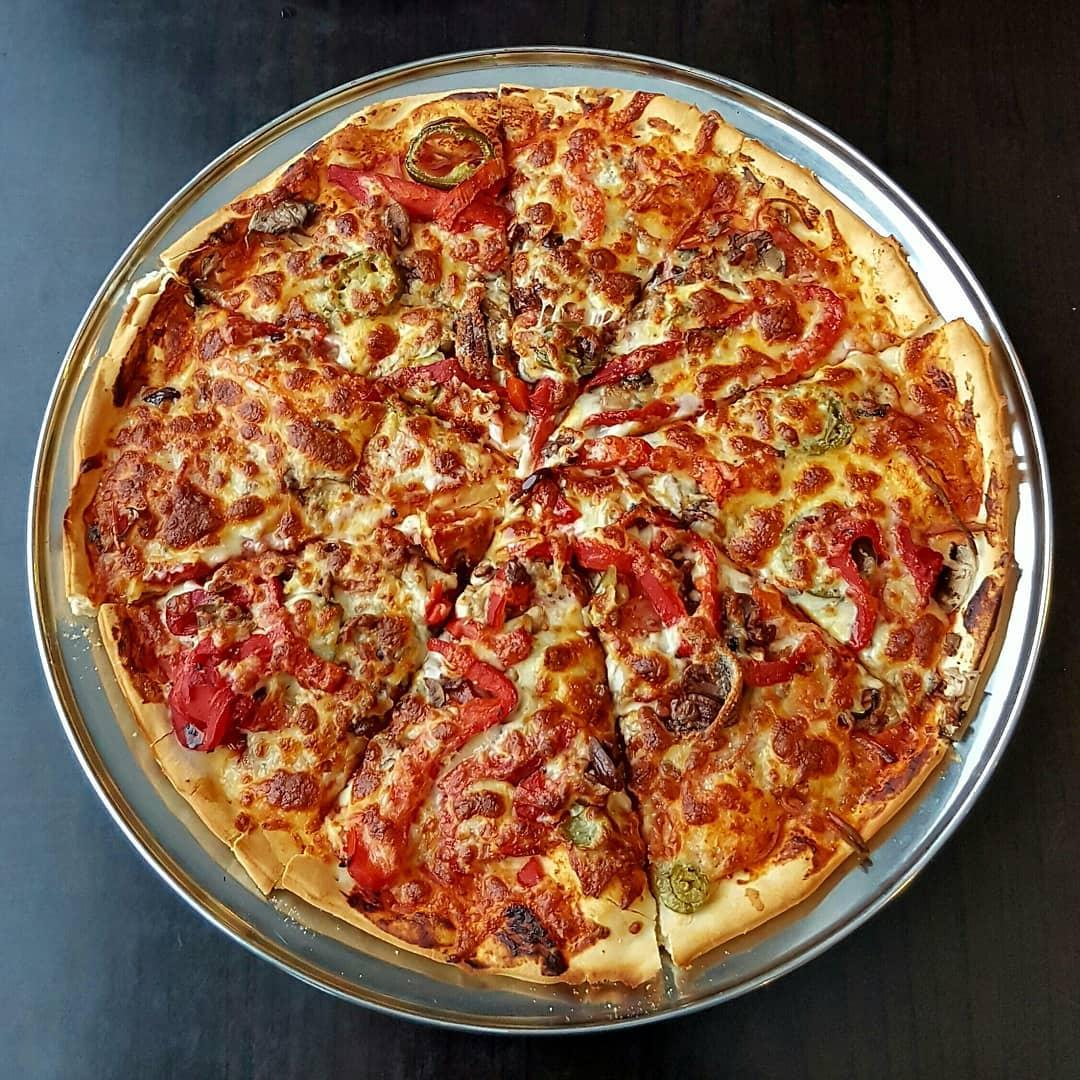Olives: (657, 854, 711, 912)
Peppers: (339, 649, 513, 886), (589, 513, 715, 634), (331, 162, 518, 235), (159, 635, 256, 754), (768, 282, 844, 392), (839, 518, 891, 658), (584, 330, 694, 386), (409, 117, 495, 188), (500, 369, 564, 418)
Pizza: (73, 83, 1023, 1003)
